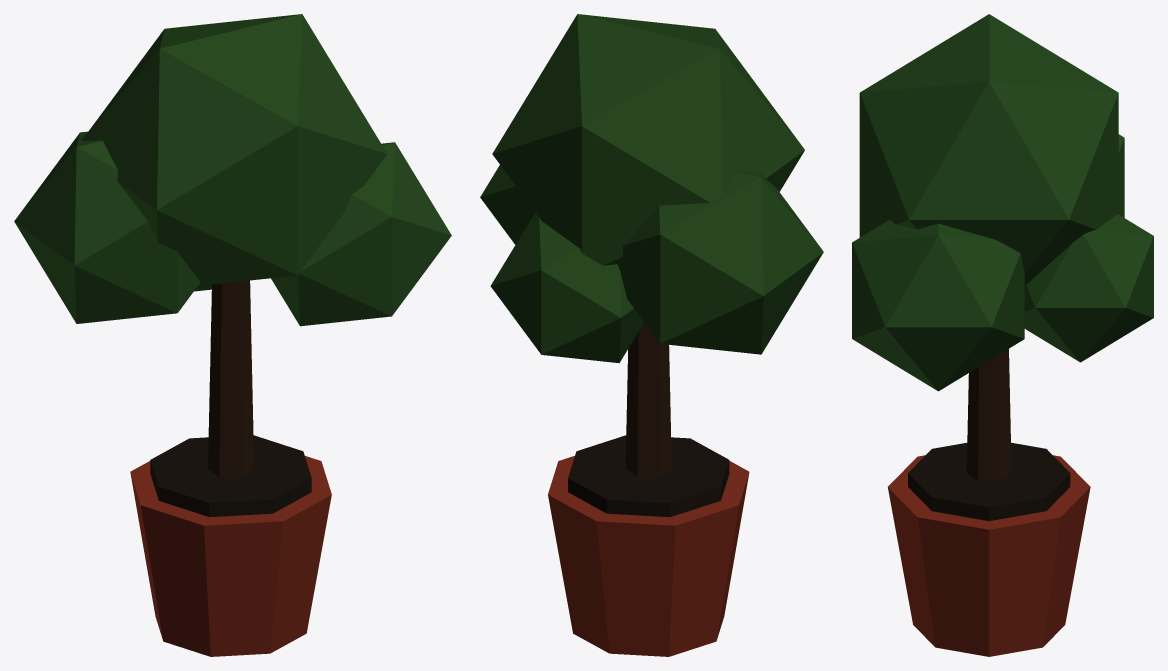
The model's file is plant.obj.
3 renders of one model, left to right at view 1: azimuth 30°, elevation 25°; view 2: azimuth 150°, elevation 25°; view 3: azimuth 270°, elevation 25°, orthographic. The views are drawn at different scales.
Size of the model in its own units: 0.7373 by 1.26 by 0.5947.
